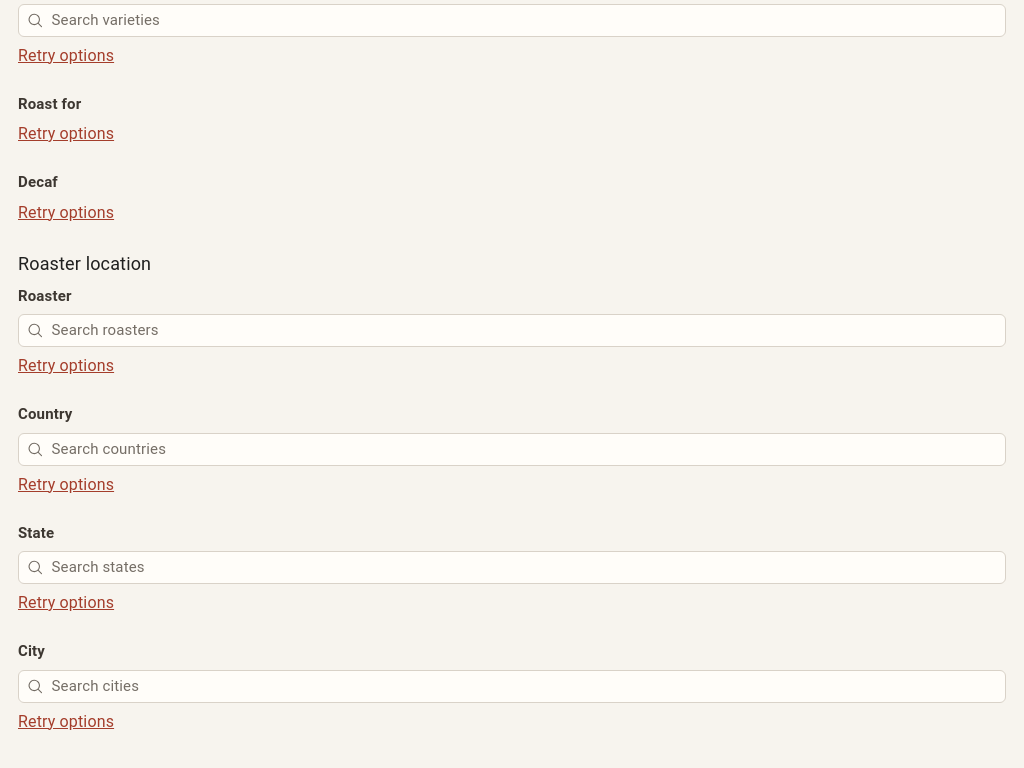
Test: facet browsing › retries failed facets and searches translated country labels
The image size is (1024, 768).
(page scrolled)
Click the button "Retry options" below "Country" at [66, 484], box [18,472,114,496]
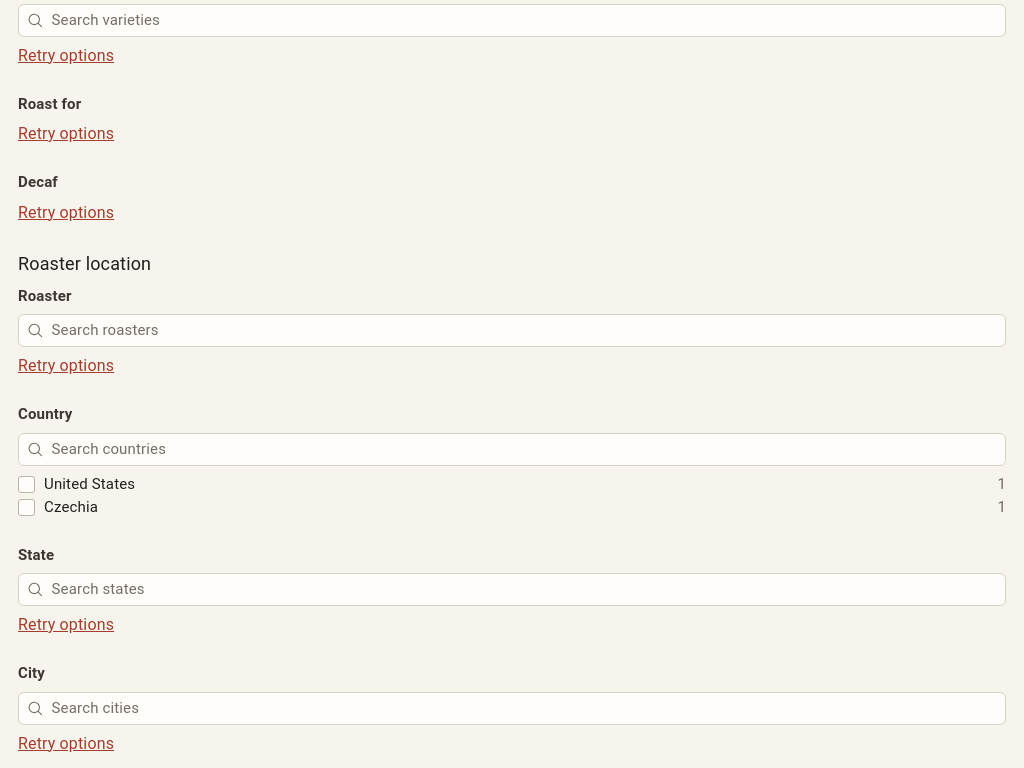
Now the checkbox labelled "United States 1" is shown, box [18,476,35,492]
Type "Czech" into the field with placeholder "Search countries" at [524, 449], box [52,438,997,460]
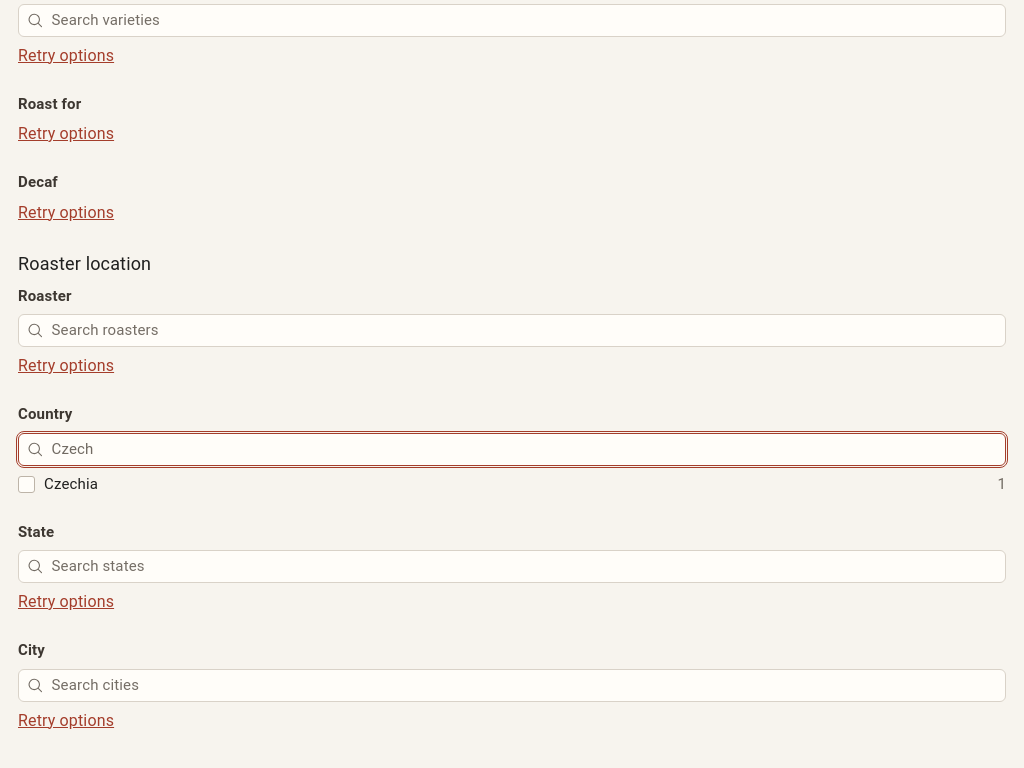
Now the number of checkboxes is 1, box [18,476,35,492]
